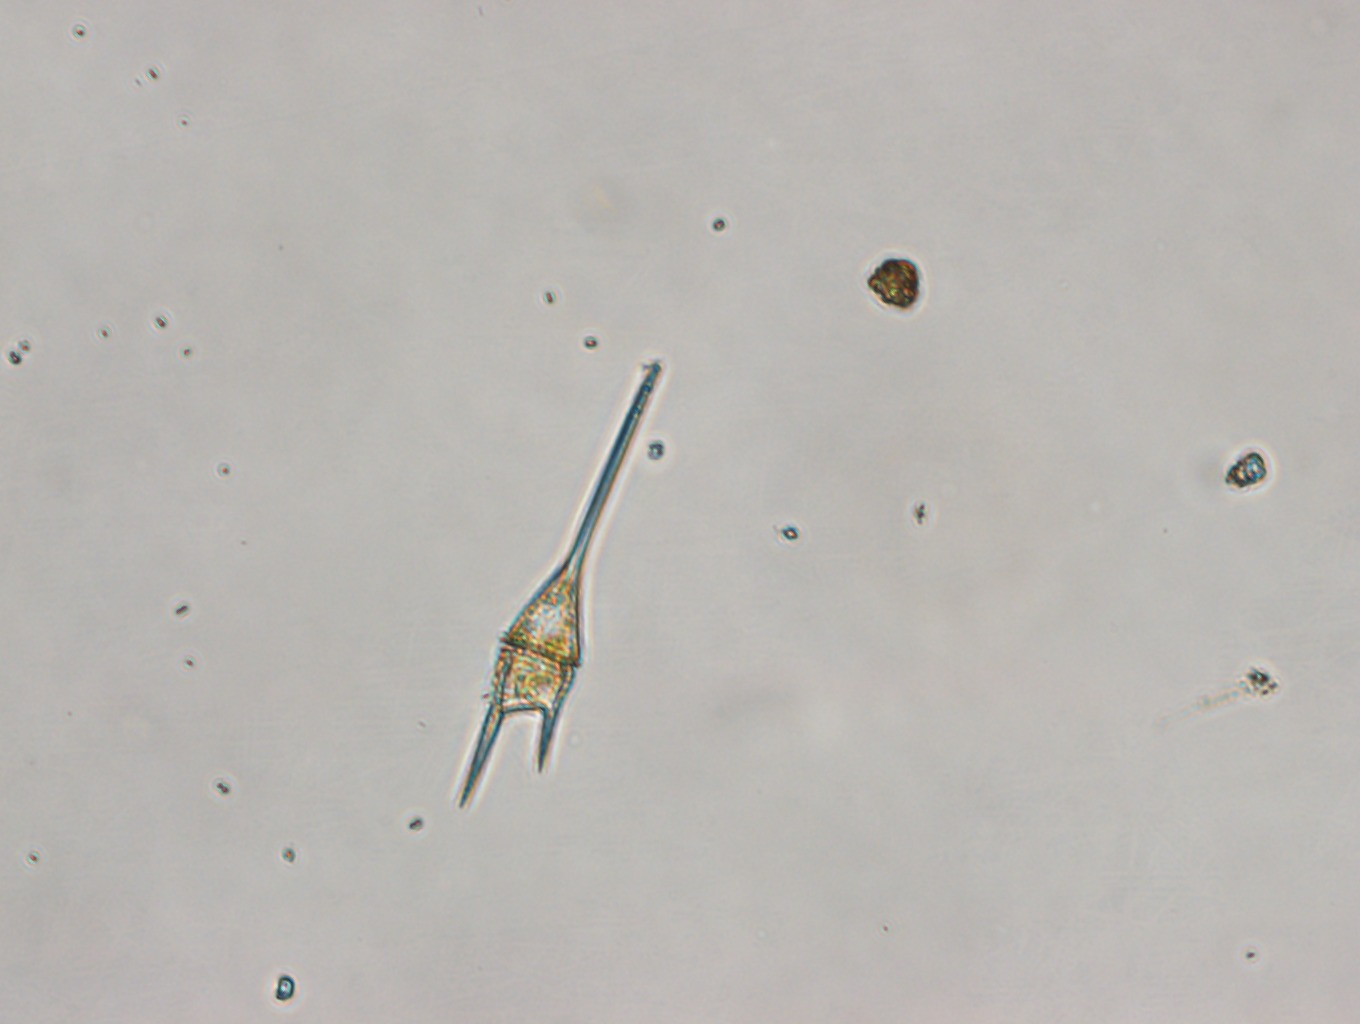ceratium furca: (457, 360, 662, 813)
